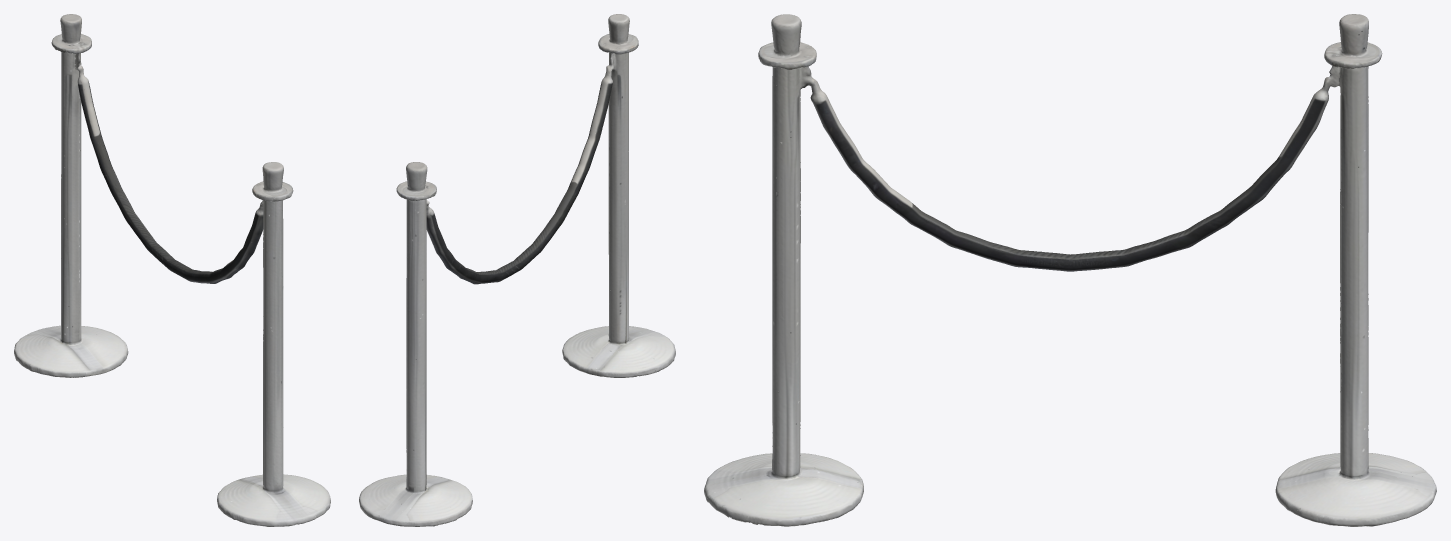
File: Meshy_AI_Velvet_Rope_Barrier_0119134836_texture.fbx
The picture shows the model from 3 angles, left to right: view 1: azimuth 30°, elevation 25°; view 2: azimuth 150°, elevation 25°; view 3: azimuth 270°, elevation 25°; orthographic projection. The views are drawn at different scales.
Visible parts, largest first — view 1: Mesh_0; view 2: Mesh_0; view 3: Mesh_0.
Boxes of the visible parts, x1,y1,x2,y2 form: Mesh_0: [14, 14, 330, 526]; Mesh_0: [359, 14, 675, 526]; Mesh_0: [704, 14, 1436, 526].
Size of the model in its own units: 43.79 by 143 by 200.
Materials: 1 (1 with a texture image).
